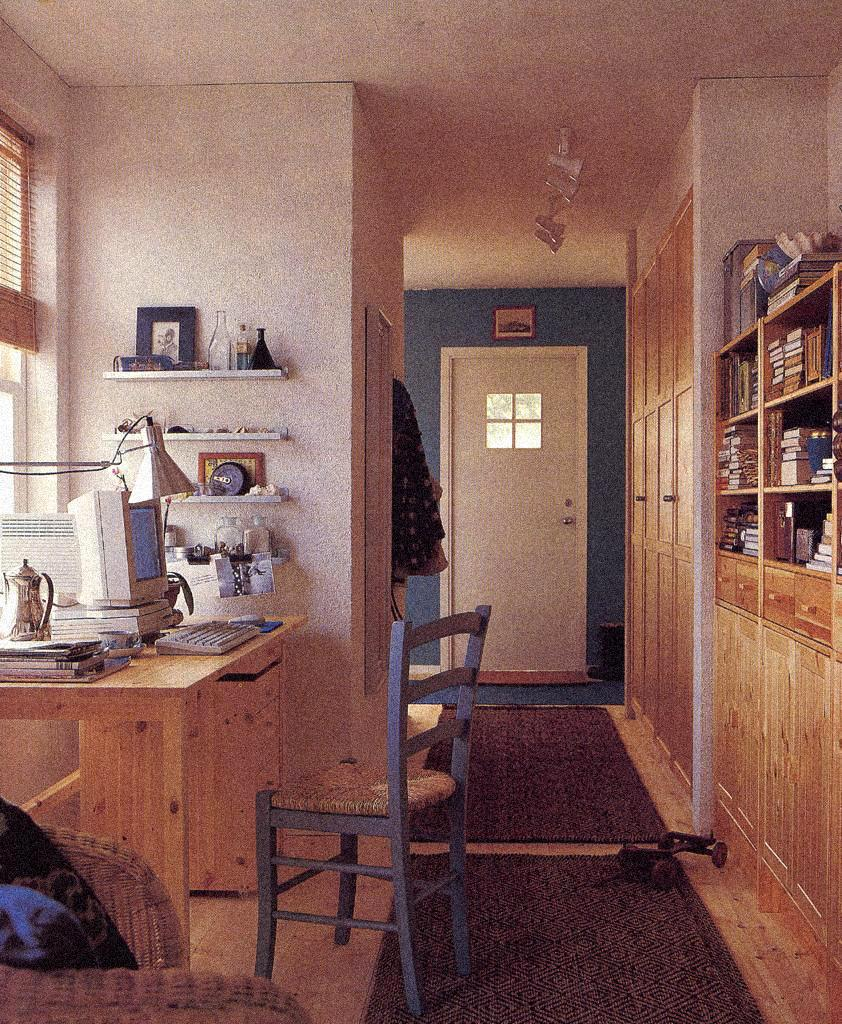Puerta: (442, 350, 589, 680)
